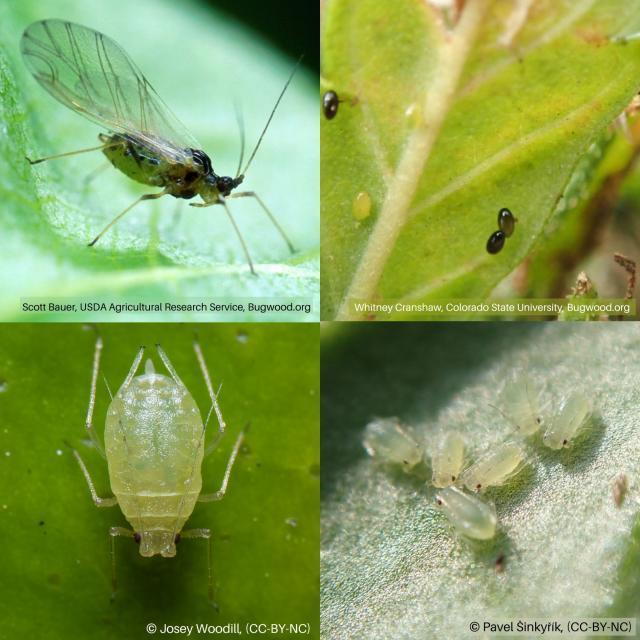Aphids: (58, 324, 258, 625), (426, 487, 512, 564), (359, 404, 427, 492), (467, 434, 529, 504), (537, 390, 595, 461), (488, 382, 543, 446), (423, 426, 466, 493)
